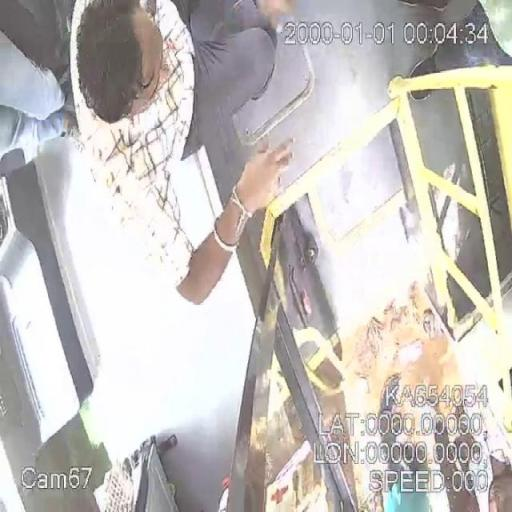persona: (69, 0, 297, 306)
